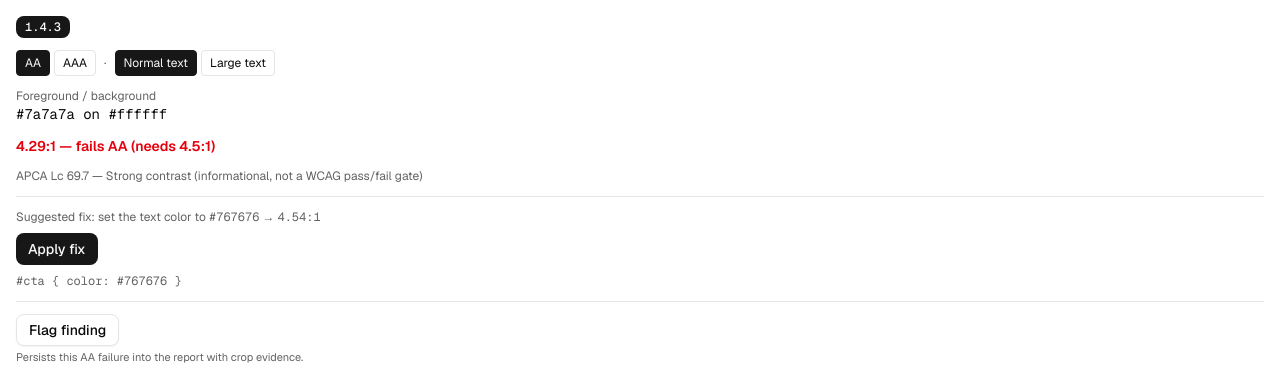
Scenario: ContrastFix › disables re-flagging the same selector after a successful flag (client-side only)
Click the button "Flag finding". click: point(68, 330)
box: left=16, top=314, right=119, bottom=346
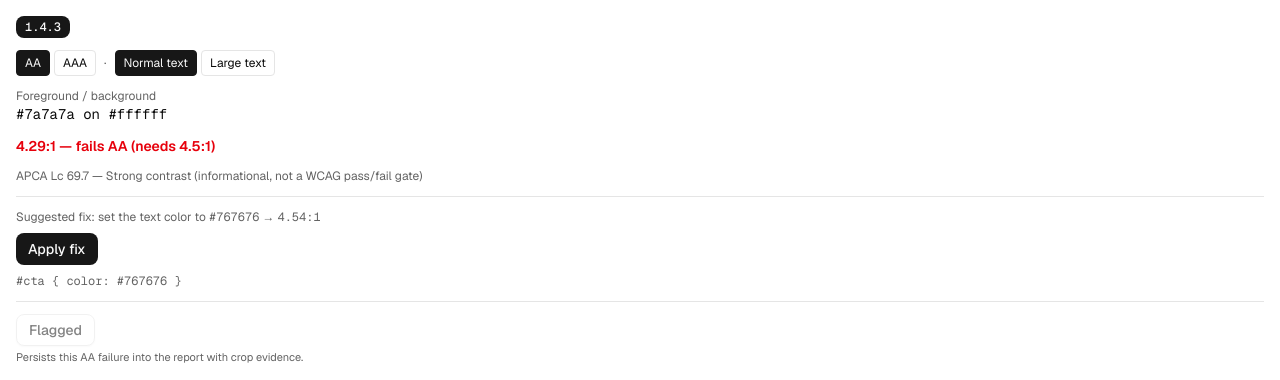
Expected: the button "Flagged" is disabled, left=16, top=314, right=95, bottom=346
